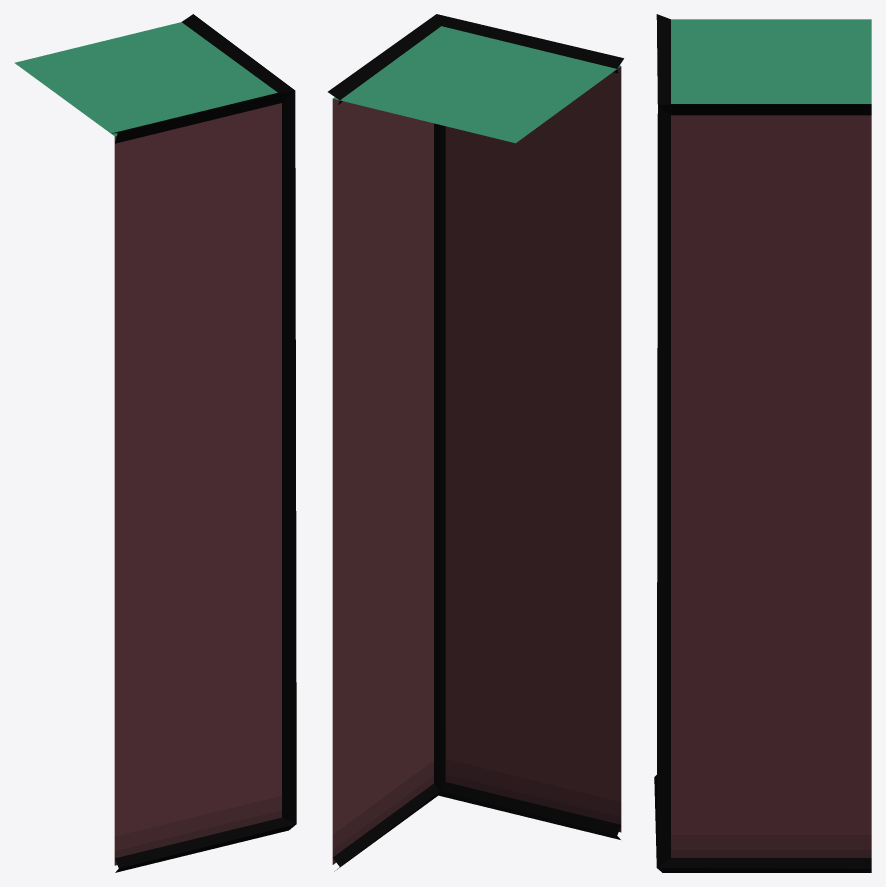
The model's file is Pit_Corner_Down_Right.glb.
3 renders of one model, left to right at view 1: azimuth 30°, elevation 25°; view 2: azimuth 150°, elevation 25°; view 3: azimuth 270°, elevation 25°, orthographic. The views are drawn at different scales.
Visible parts, largest first — view 1: Corner_Down_Right, Outline.002; view 2: Corner_Down_Right, Outline.002; view 3: Corner_Down_Right, Outline.002.
Part boxes in pixels (left/top/right/bottom): Corner_Down_Right: left=14, top=22, right=281, bottom=865; Outline.002: left=111, top=14, right=296, bottom=872; Corner_Down_Right: left=332, top=26, right=621, bottom=864; Outline.002: left=328, top=14, right=623, bottom=871; Corner_Down_Right: left=671, top=19, right=871, bottom=857; Outline.002: left=654, top=14, right=871, bottom=872.
Size of the model in its own units: 0.26 by 1.02 by 0.26.
Materials: 4 (3 with a texture image).
